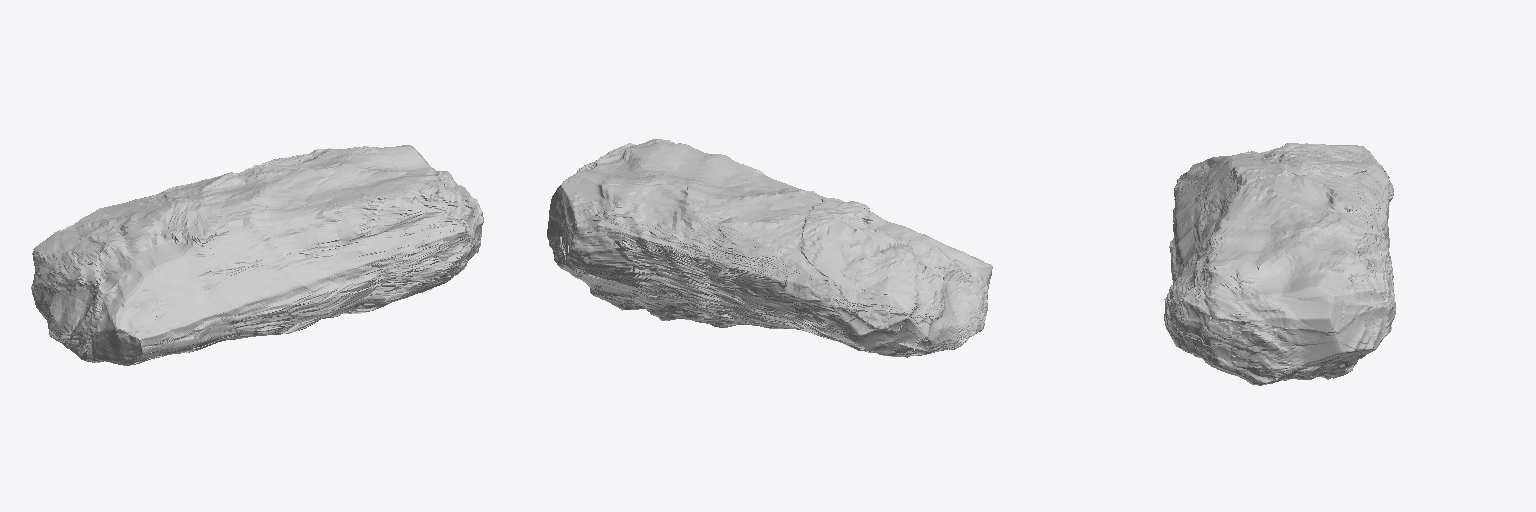
File: Rock_04_Hite.OBJ
3 views of the same model, side by side, from view 1: azimuth 30°, elevation 25°; view 2: azimuth 150°, elevation 25°; view 3: azimuth 270°, elevation 25° (orthographic).
Visible parts, largest first — view 1: Group2; view 2: Group2; view 3: Group2.
Part boxes in pixels (x1,y1,x2,y2): Group2: (31,145,483,365); Group2: (547,139,992,357); Group2: (1164,143,1395,385).
Bounding box in the file's own units: 22.39 × 6.49 × 11.14.